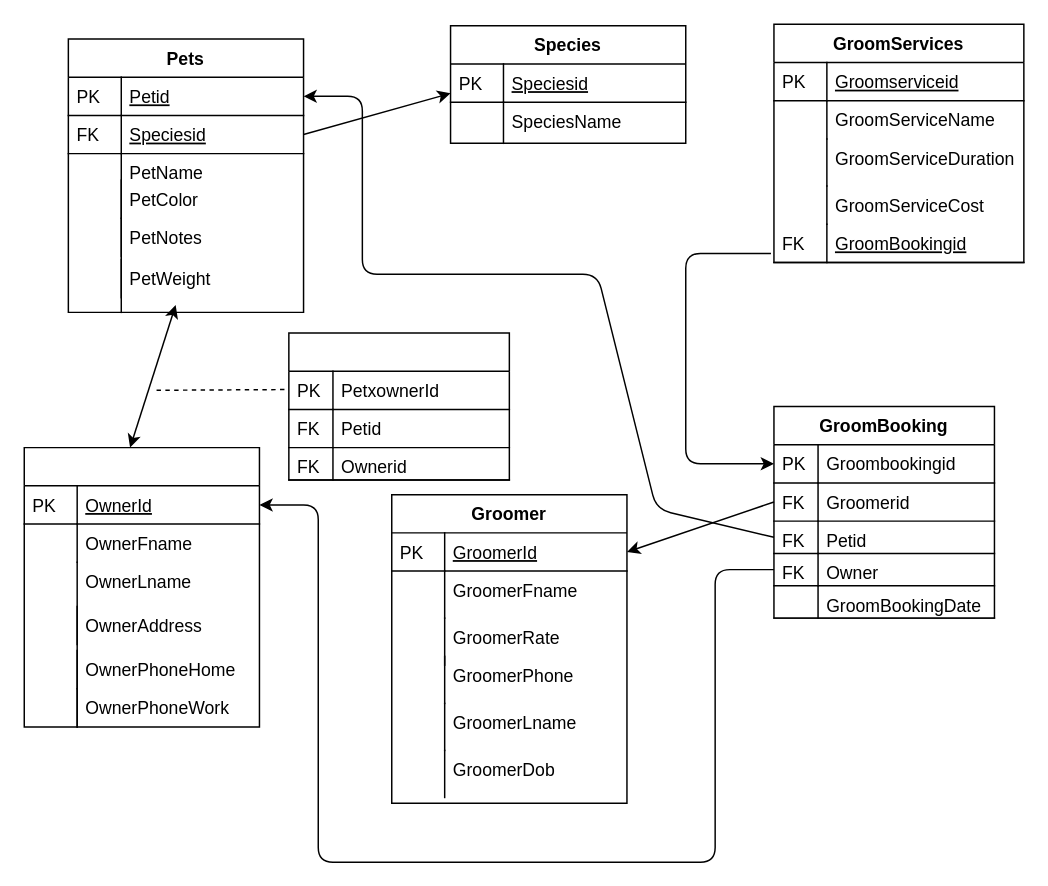
Image size: 1048x886. Some labels were removed from this diagram. The shapes that lost their labels are listed below. From the top down, each one's box as (x1, y1, x2, y2) in pixels, then its label:
(287, 331, 509, 480): PetsxOwners
(23, 446, 259, 727): Owners
